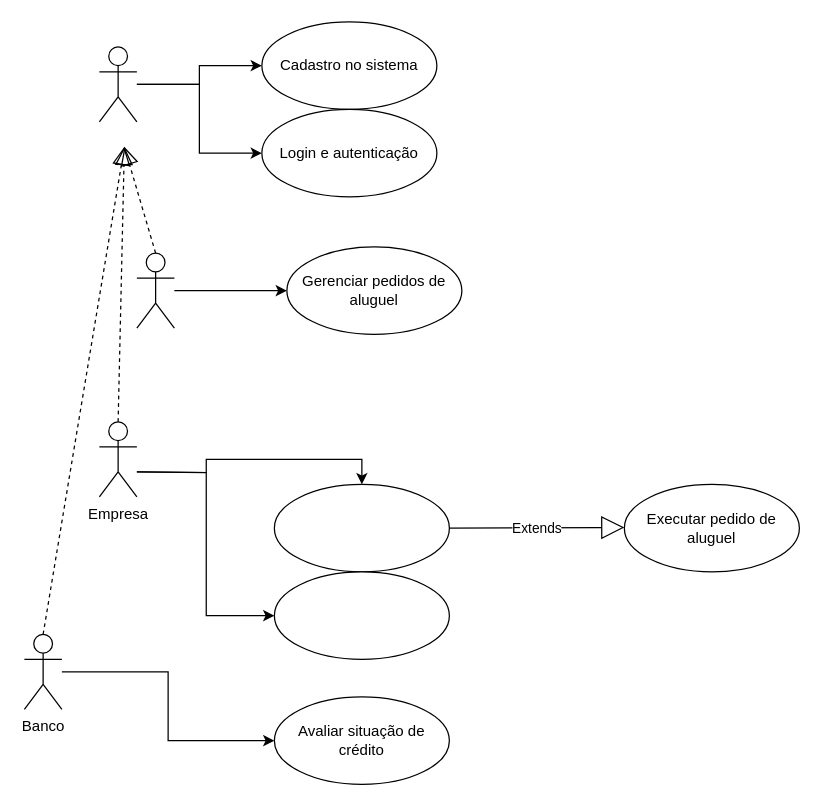
The diagram is 821 pixels wide and 806 high, and some of its shapes have lost their labels. Here are the shapes that lost their labels. From the top down, the box of each, then its label:
(98, 46, 137, 122): Usuário
(136, 252, 174, 328): Cliente
(273, 483, 449, 572): Avaliar pedido
(273, 571, 449, 659): Gerenciar automoveis
